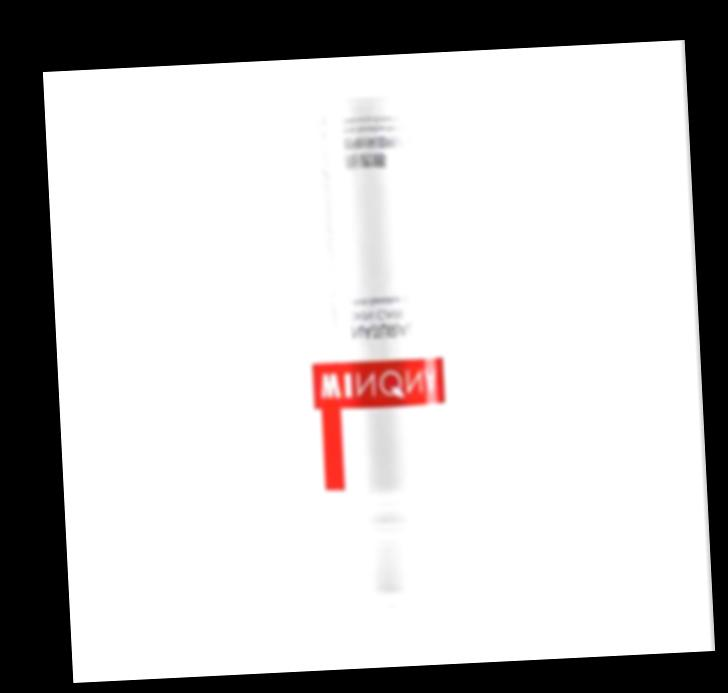cosmetic: (295, 92, 459, 640)
